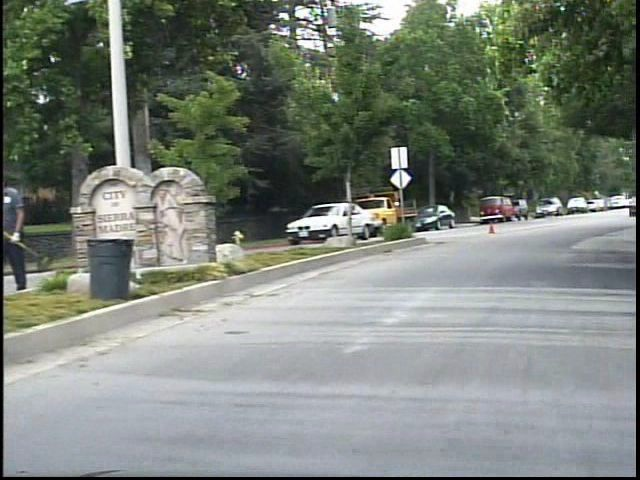person: (9, 166, 47, 297)
